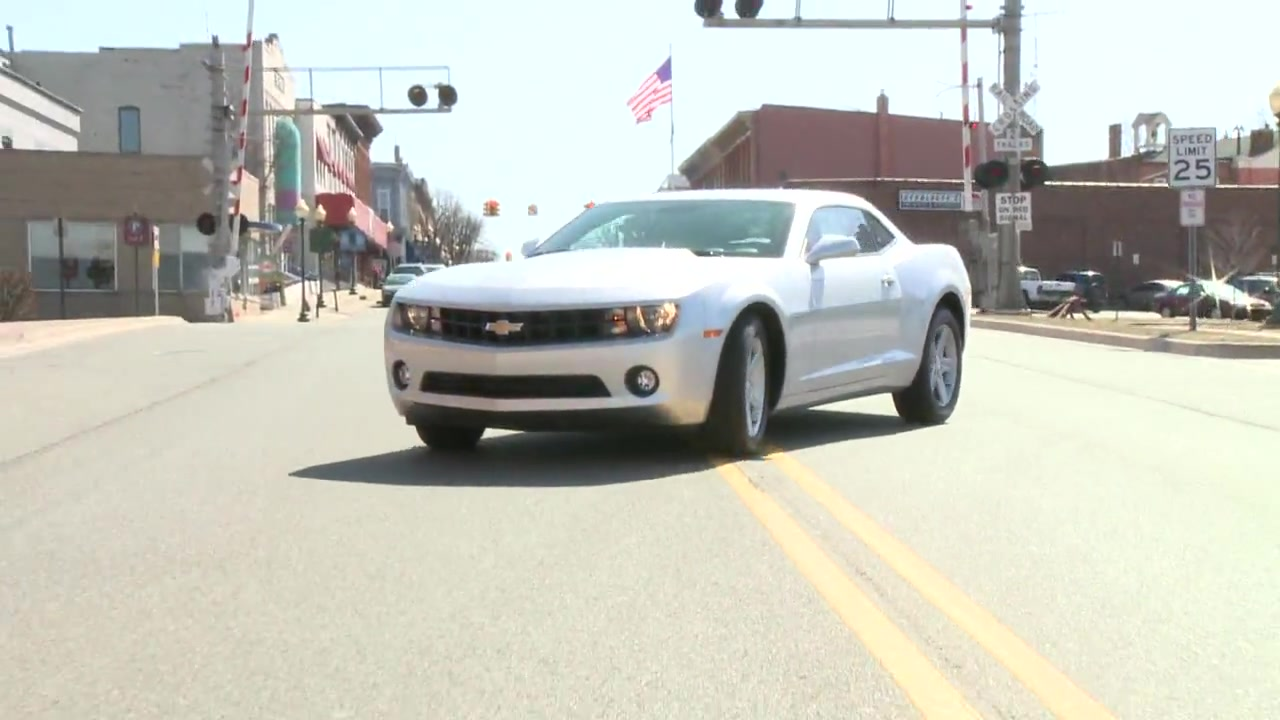car: (382, 190, 977, 457)
